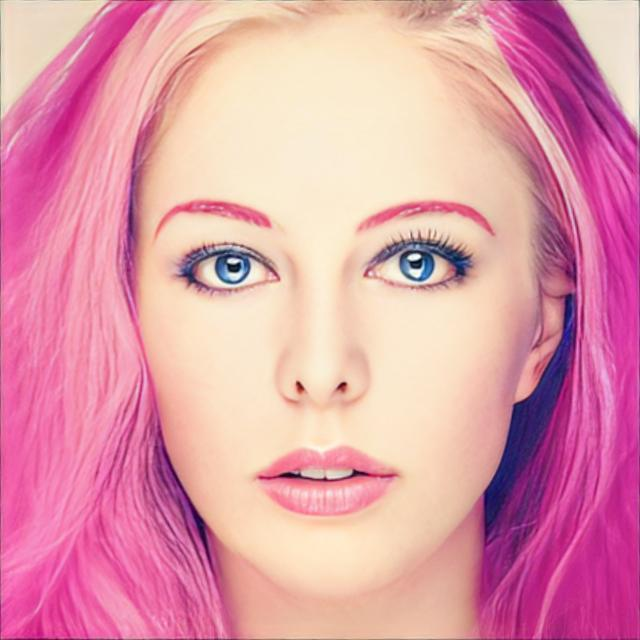surprise: (132, 1, 538, 604)
